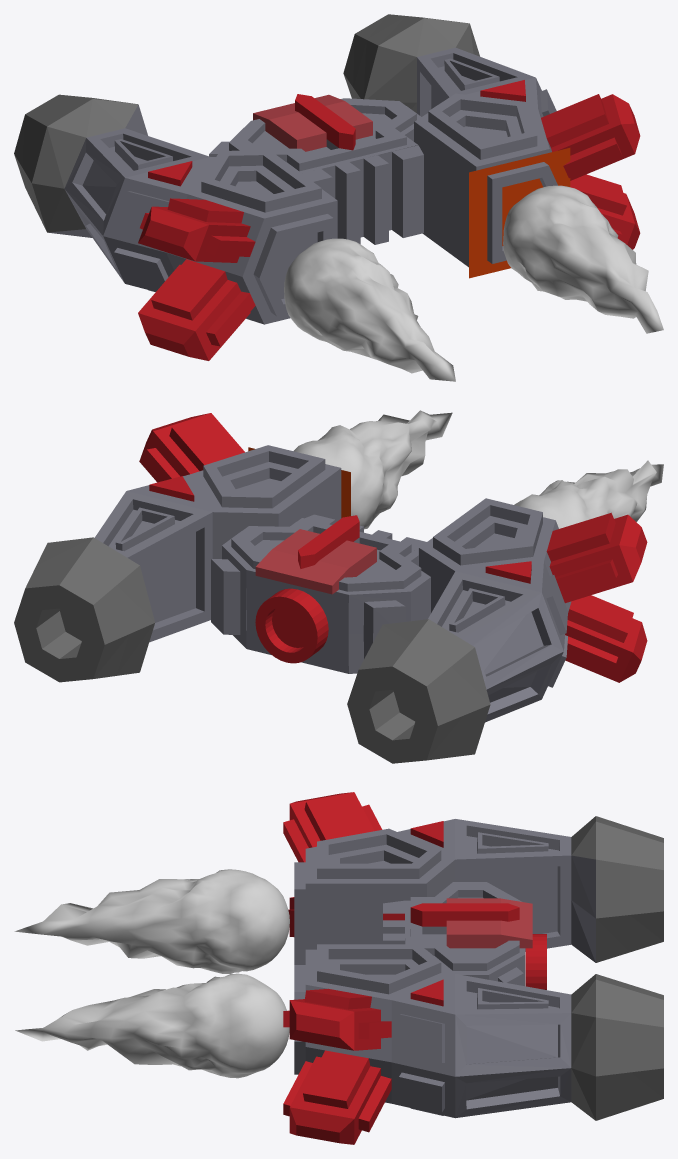
Rendered from enemyship.obj.
The picture shows the model from 3 angles, top to bottom: view 1: azimuth 30°, elevation 25°; view 2: azimuth 150°, elevation 25°; view 3: azimuth 270°, elevation 25°; orthographic projection. The views are drawn at different scales.
Visible parts, largest first — view 1: Spaceship_Spaceship-mesh, EmberEmitter-right_EmberEmitter-mesh.001; view 2: Spaceship_Spaceship-mesh; view 3: Spaceship_Spaceship-mesh.
Part boxes in pixels (bbox=[...]): Spaceship_Spaceship-mesh: bbox=[14, 14, 663, 381]; EmberEmitter-right_EmberEmitter-mesh.001: bbox=[469, 148, 570, 278]; Spaceship_Spaceship-mesh: bbox=[14, 410, 663, 763]; Spaceship_Spaceship-mesh: bbox=[14, 792, 663, 1144].
Size of what is drawn, in the model's own units: 9.66 by 2.71 by 11.38.
